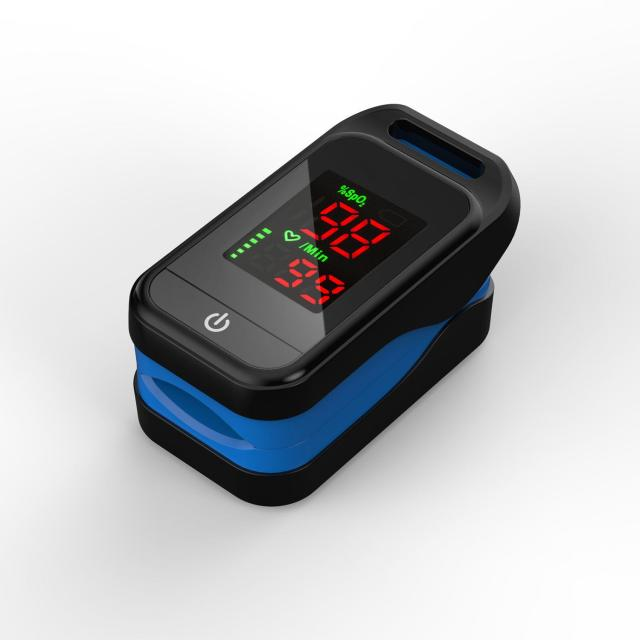oximeter: (89, 75, 586, 511)
